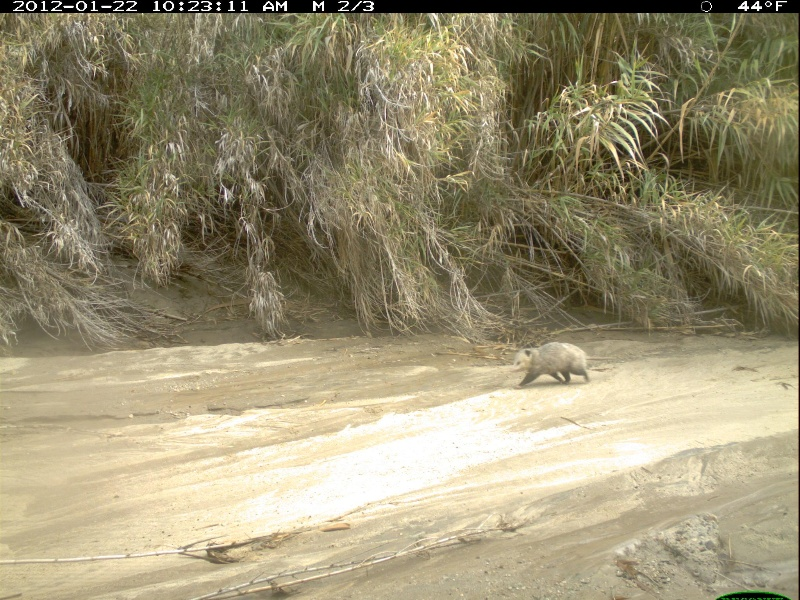opossum: (509, 340, 617, 391)
